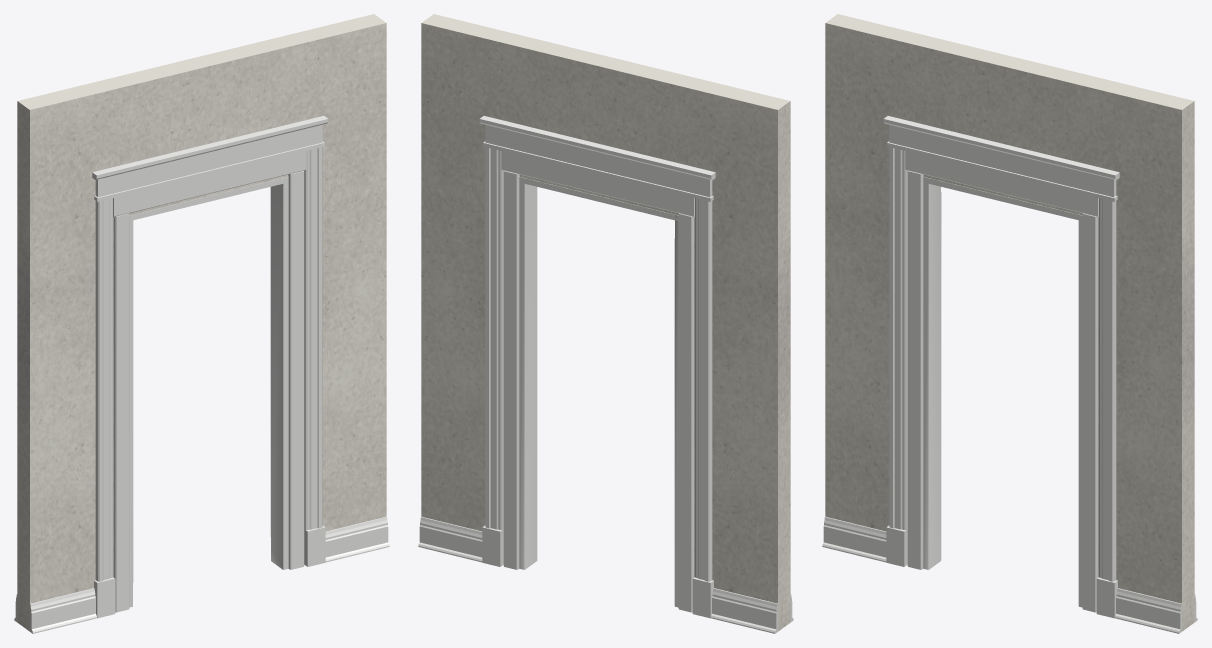
File: iw_doorway.glb
3 renders of one model, left to right at view 1: azimuth 30°, elevation 25°; view 2: azimuth 150°, elevation 25°; view 3: azimuth 330°, elevation 25°, orthographic.
Parts seen in each view (by area): view 1: iw_doorway_plaster, molduras, iw_doorway_frame; view 2: iw_doorway_plaster, molduras, iw_doorway_frame; view 3: iw_doorway_plaster, molduras, iw_doorway_frame.
Boxes of the visible parts, x1,y1,x2,y2 form: iw_doorway_plaster: (17,14,386,631); molduras: (14,116,389,633); iw_doorway_frame: (113,151,306,612); iw_doorway_plaster: (421,14,790,631); molduras: (418,116,793,633); iw_doorway_frame: (501,151,694,612); iw_doorway_plaster: (825,14,1194,631); molduras: (822,116,1197,633); iw_doorway_frame: (905,151,1098,612).
Size of the model in its own units: 2 by 2.8 by 0.204.
Materials: 3 (1 with a texture image).
